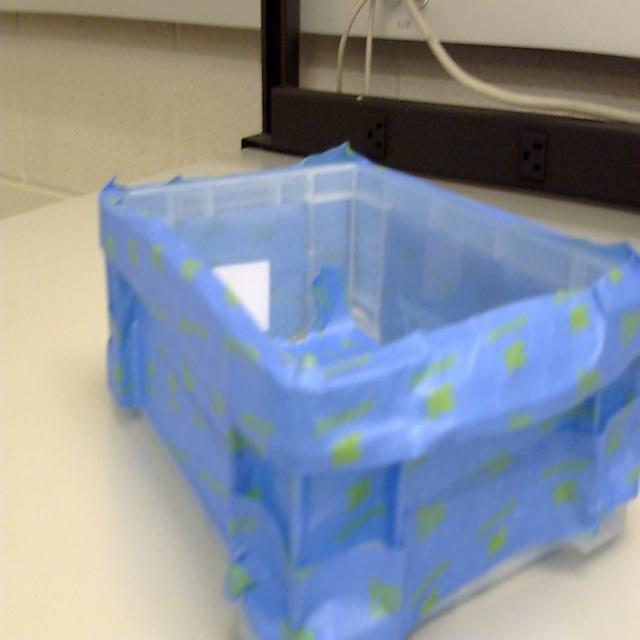bucket: (97, 144, 640, 640)
